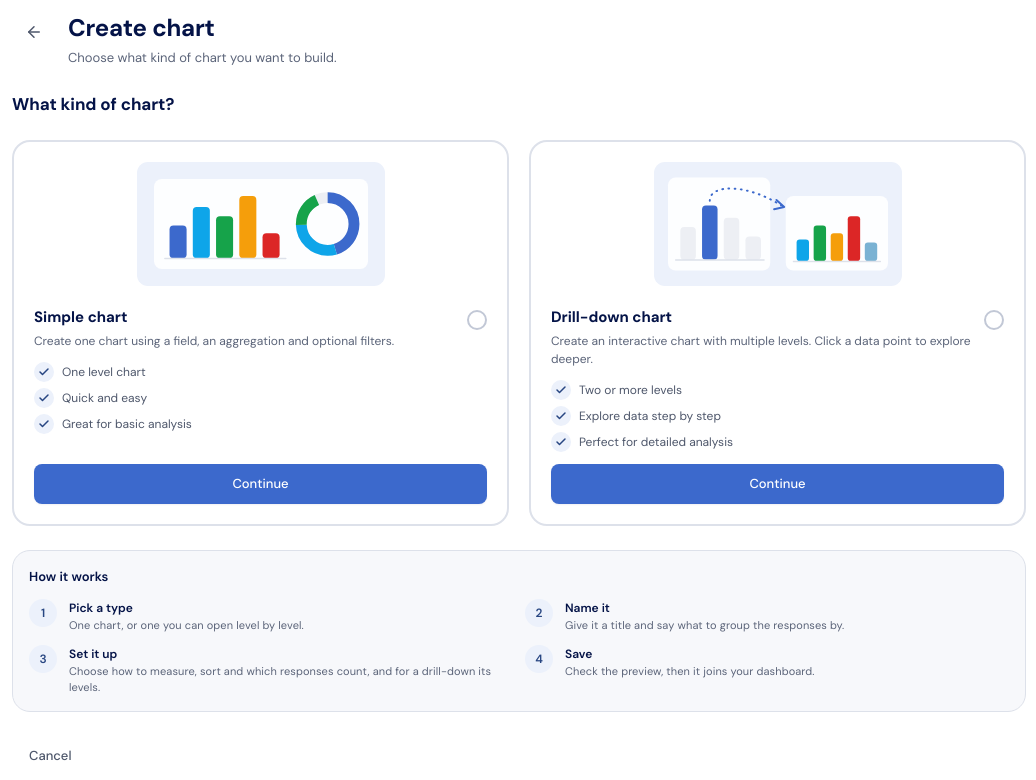
step 1: the kind of chart › Continue on Simple chart goes to step 2 and moves focus to its heading
This screenshot has width=1036, height=780.
Expected: the radio button labelled "Simple chart" is shown, [12, 140, 509, 526]
Click the button "Continue" below "Great for basic analysis" at x=260, y=484, box [34, 464, 487, 504]
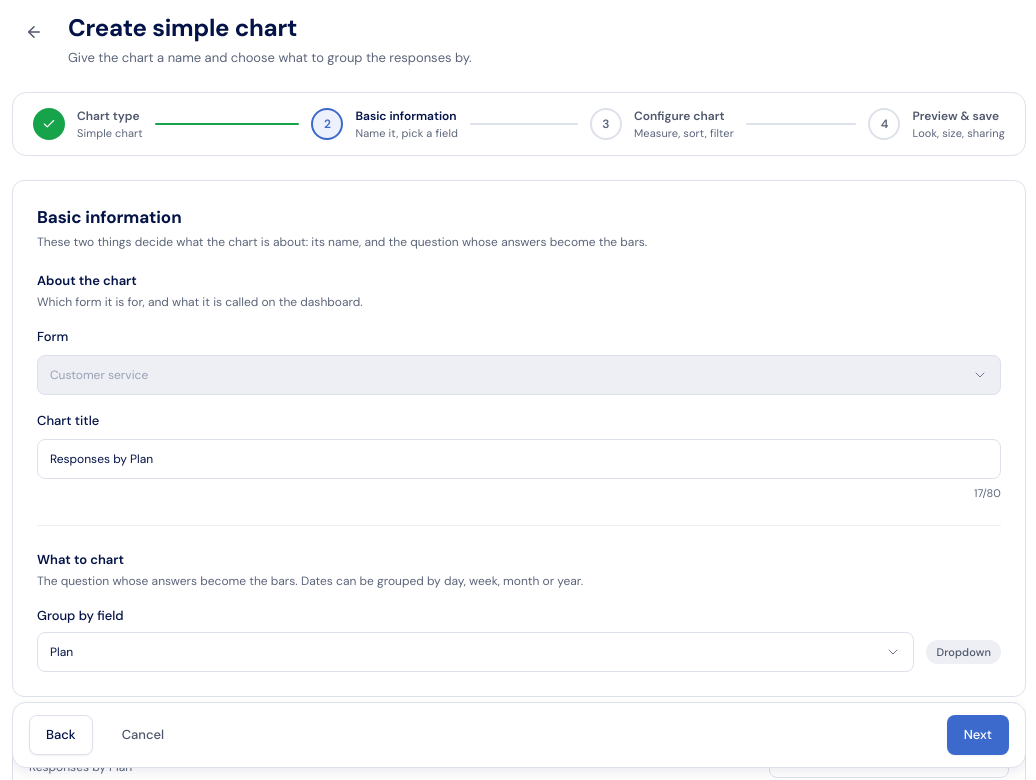
Expected: the field labelled "Chart title" is shown, [37, 439, 1001, 479]
Expected: the heading "Create simple chart" is shown, [68, 12, 297, 43]
Click the button "Chart type Simple chart" at x=88, y=124, box [29, 105, 147, 143]
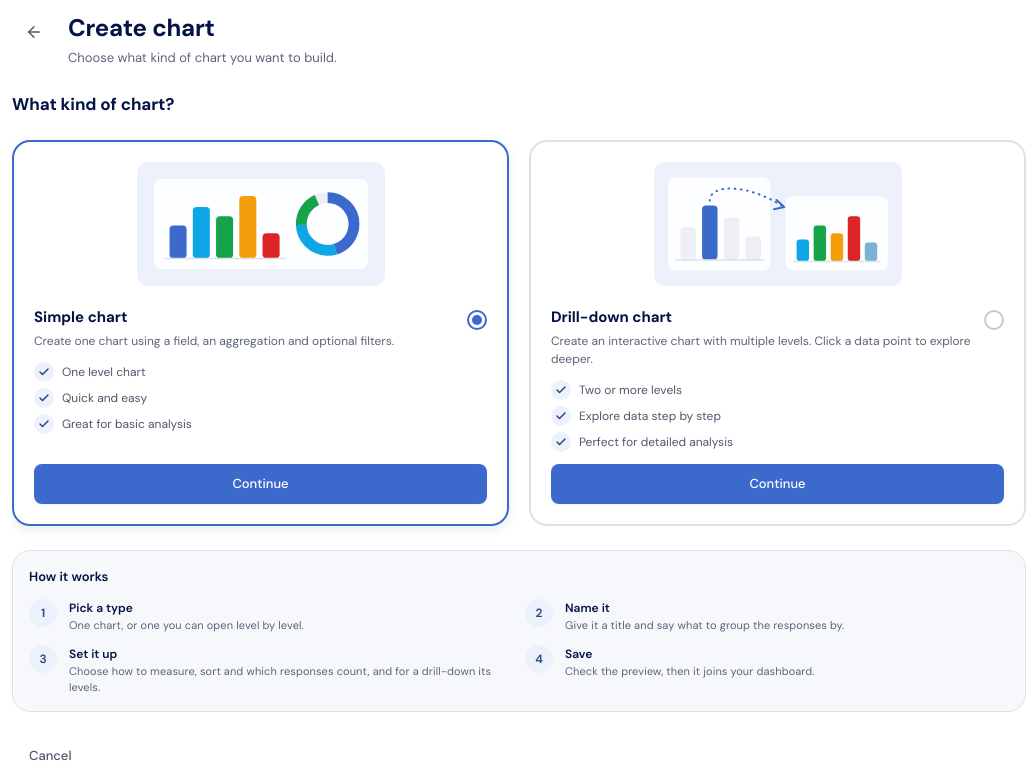
Expected: the heading "What kind of chart?" is shown, [12, 93, 174, 115]
